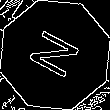N_SE: (24, 26, 86, 84)
